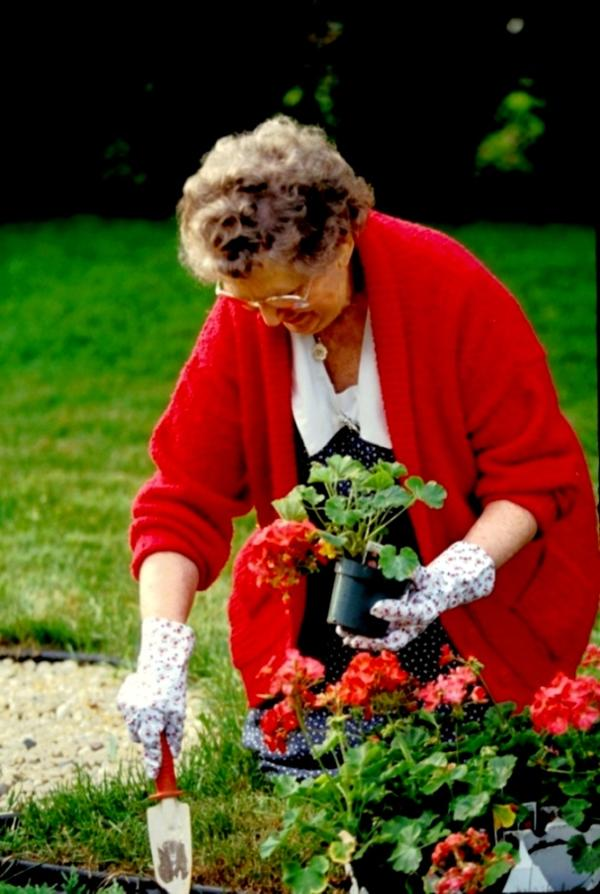person: (118, 117, 600, 770)
